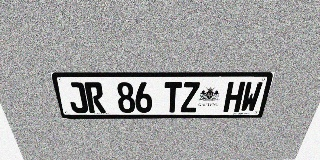6: (134, 82, 152, 113)
8: (116, 82, 135, 113)
H: (223, 82, 246, 112)
J: (65, 82, 89, 113)
R: (84, 82, 106, 113)
T: (164, 82, 182, 112)
W: (239, 82, 263, 112)
Z: (181, 82, 200, 112)
